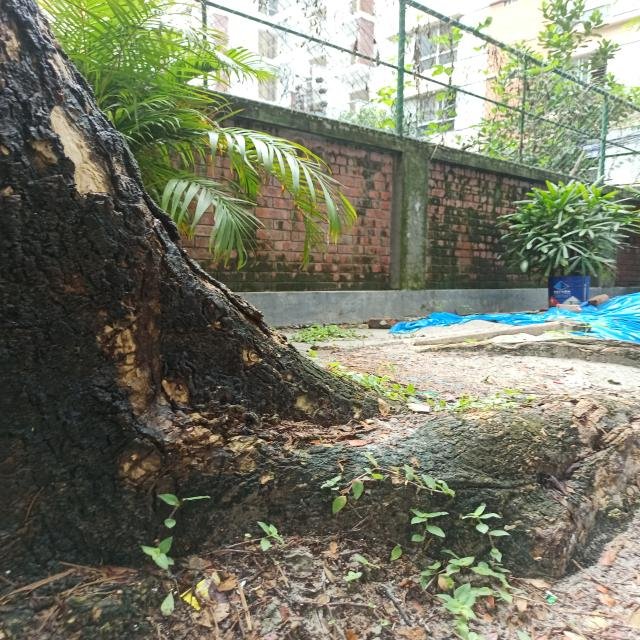artificial_container: (548, 275, 590, 308)
